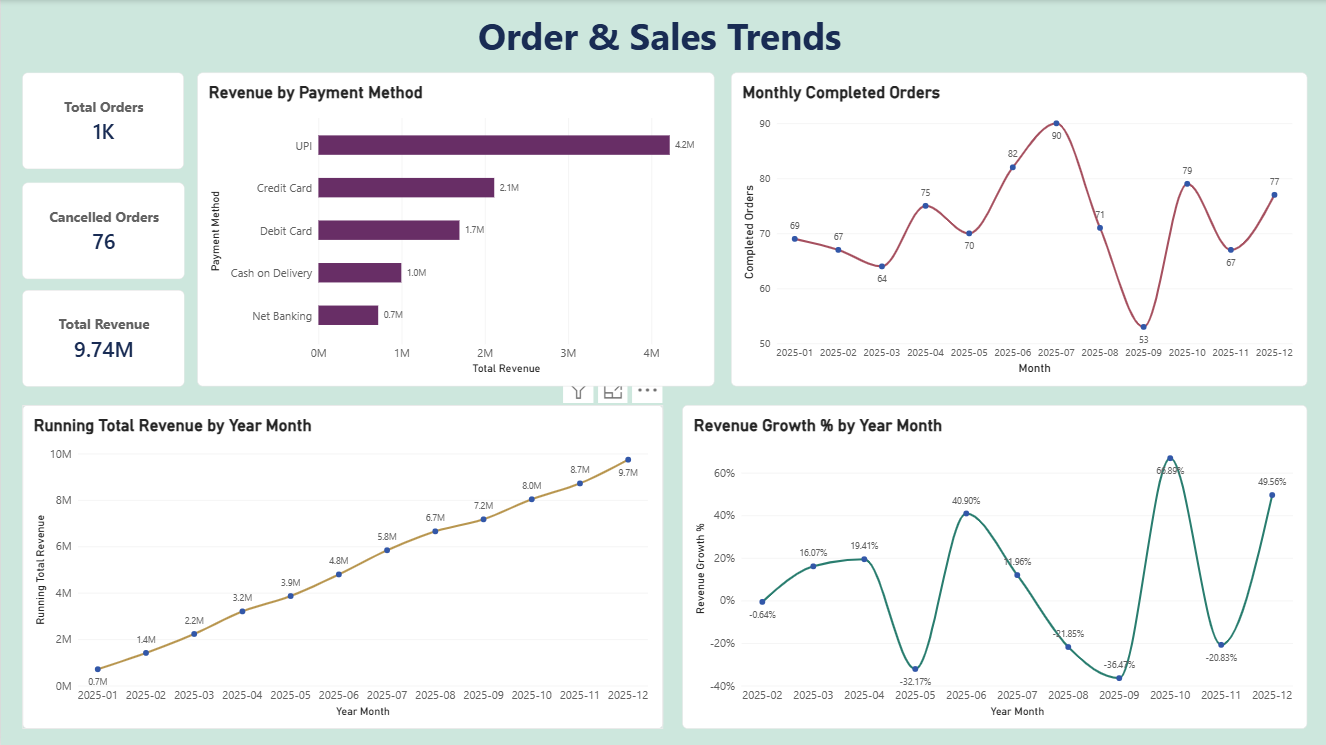

Layout of this report page (visuals, bound fields, positions):
{"tool":"powerbi","page":{"name":"Page 4","canvas":[1920,1080],"ordinal":3},"visuals":[{"type":"lineChart","title":"Monthly Completed Orders","fields":{"Category":["DateTable.Year Month"],"Y":["orders.Completed Orders"]},"box":[1056.8,105,834.3,454.2],"z":0},{"type":"lineChart","fields":{"Category":["DateTable.Year Month"],"Y":["orders.Revenue Growth %"]},"box":[986.3,586.3,904.8,468.7],"z":1000},{"type":"lineChart","fields":{"Category":["DateTable.Year Month"],"Y":["DateTable.Running Total Revenue"]},"box":[30.8,586.3,928.4,468.7],"z":2000},{"type":"textbox","box":[30.8,14.5,1860.3,90.5],"z":3000},{"type":"cardVisual","fields":{"Data":["Count(orders.order_id)"]},"box":[30.8,105,234.6,140],"z":4000},{"type":"cardVisual","fields":{"Data":["orders.Cancelled Orders"]},"box":[30.8,264.2,235,140],"z":5000},{"type":"cardVisual","fields":{"Data":["order_items.Total Revenue"]},"box":[30.8,419.8,235,140],"z":6000},{"type":"clusteredBarChart","title":"Revenue by Payment Method","fields":{"Category":["orders.payment_method"],"Y":["order_items.Total Revenue"]},"box":[284.1,105,749.2,454.2],"z":7000}]}

Visuals, with their boxes in screenshot pixels (x1, y1, x2, y2), scaled from the page's 1920x1080 canvas onto the 1326x745 screenshot:
"Monthly Completed Orders" lineChart: (730, 72, 1306, 386)
lineChart - DateTable.Year Month x orders.Revenue Growth %: (681, 404, 1306, 728)
lineChart - DateTable.Year Month x DateTable.Running Total Revenue: (21, 404, 662, 728)
textbox: (21, 10, 1306, 72)
cardVisual - Count(orders.order_id): (21, 72, 183, 169)
cardVisual - orders.Cancelled Orders: (21, 182, 184, 279)
cardVisual - order_items.Total Revenue: (21, 290, 184, 386)
"Revenue by Payment Method" clusteredBarChart: (196, 72, 714, 386)
